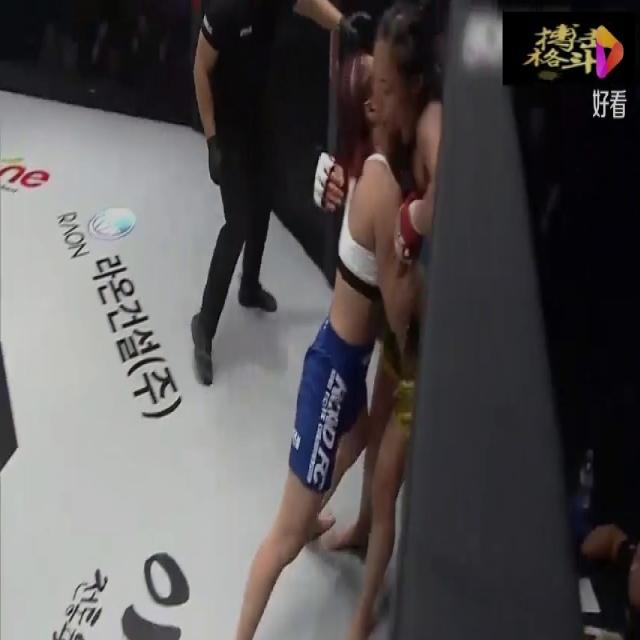fight: (234, 0, 448, 639)
non-fight: (178, 0, 358, 393)
